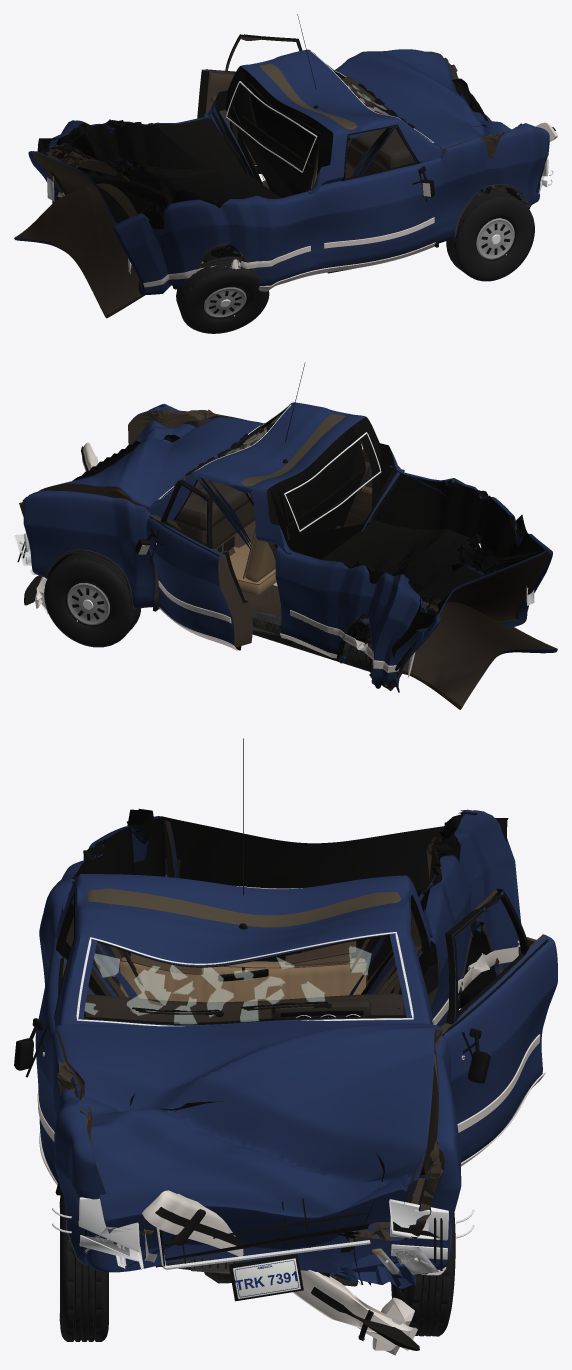
The model's file is pickup87_rear_d3.glb.
3 renders of one model, top to bottom at view 1: azimuth 30°, elevation 25°; view 2: azimuth 150°, elevation 25°; view 3: azimuth 270°, elevation 25°, orthographic. The views are drawn at different scales.
Parts seen in each view (by area): view 1: Body, Hood, Tailgate, Wheel_FR_mesh, Wheel_RR_mesh, Door_FR, Interior, Trim, Trim_FR, Door_FL, Glass, Ends; view 2: Body, Door_FL, Hood, Tailgate, Wheel_FL_mesh, Interior, Trim, Underbody, Trim_FL, Glass, Bumper_F, Ends (+1 smaller); view 3: Body, Hood, Interior, Door_FL, Ends, Bumper_F, Glass, Wheel_FR_mesh, Trim_FL, Wheel_FL_mesh, Trim, Door_FR (+1 smaller).
Part boxes in pixels (x1,y1,x2,y2): Body: (28,49,549,295); Hood: (335,49,511,192); Tailgate: (14,183,145,318); Wheel_FR_mesh: (446,189,534,281); Wheel_RR_mesh: (176,256,269,333); Door_FR: (320,124,438,268); Interior: (311,77,413,188); Trim: (57,14,530,291); Trim_FR: (320,124,435,273); Door_FL: (197,34,301,164); Glass: (226,51,433,172); Ends: (47,158,553,273); Body: (19,402,552,692); Door_FL: (146,480,252,647); Hood: (38,417,262,512); Tailgate: (401,599,557,709); Wheel_FL_mesh: (44,552,141,647); Interior: (171,434,276,594); Trim: (45,362,528,683); Underbody: (251,582,371,677); Trim_FL: (135,481,241,650); Glass: (158,404,381,531); Bumper_F: (24,442,98,613); Ends: (15,533,534,677); Body: (35,809,521,1288); Hood: (56,1020,442,1252); Interior: (84,941,405,1022); Door_FL: (440,888,557,1162); Ends: (52,859,517,1301); Bumper_F: (142,1190,419,1355); Glass: (76,886,413,1026); Wheel_FR_mesh: (59,1189,108,1341); Trim_FL: (432,891,548,1166); Wheel_FL_mesh: (391,1175,455,1336); Trim: (55,738,520,1274); Door_FR: (35,903,73,1183).
Bounding box in the file's own units: 4.38 × 2.48 × 2.6.
33 materials, 5 textured.
